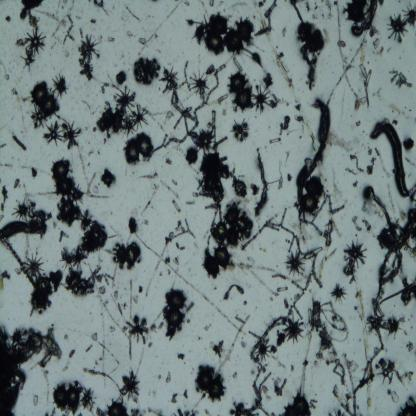Background material: (0, 324, 59, 414), (290, 0, 323, 89), (0, 208, 51, 260), (310, 299, 344, 369), (228, 364, 272, 414), (200, 153, 232, 211), (28, 269, 64, 316), (328, 379, 352, 416), (13, 0, 47, 25), (96, 105, 121, 138), (134, 55, 160, 83), (387, 68, 416, 90), (324, 218, 342, 247), (329, 354, 347, 383), (228, 176, 248, 200), (61, 12, 75, 46), (261, 316, 283, 336), (10, 132, 33, 150), (0, 180, 12, 213), (92, 0, 110, 18), (396, 368, 414, 386), (126, 217, 141, 237), (0, 265, 11, 291), (9, 85, 23, 105), (9, 176, 25, 193), (274, 378, 288, 396), (101, 172, 116, 188), (114, 68, 127, 86), (186, 149, 198, 167), (213, 340, 225, 358), (402, 136, 416, 150), (127, 405, 144, 416), (352, 215, 362, 233), (178, 408, 200, 416), (150, 321, 165, 332), (144, 405, 159, 416), (266, 342, 277, 356), (362, 218, 372, 233), (275, 332, 285, 346), (368, 162, 376, 179), (345, 164, 356, 176), (169, 392, 179, 405), (389, 390, 398, 403), (278, 171, 284, 190), (30, 166, 38, 180), (204, 321, 214, 332), (406, 342, 416, 353), (164, 372, 172, 385), (4, 11, 12, 24), (181, 388, 189, 401), (349, 153, 360, 162), (206, 407, 216, 416), (176, 352, 186, 361), (108, 34, 116, 44), (88, 15, 96, 24), (287, 172, 292, 182), (282, 299, 288, 307), (268, 294, 274, 302), (352, 182, 360, 187), (156, 372, 161, 380), (148, 340, 153, 346), (291, 363, 293, 371)
Cellulose filter fibre: (256, 7, 318, 156), (368, 188, 416, 304), (144, 223, 199, 299), (350, 274, 376, 414), (372, 117, 416, 198), (51, 325, 120, 376), (297, 96, 330, 200), (328, 30, 368, 111), (333, 3, 361, 101), (117, 170, 182, 210), (138, 1, 183, 56), (233, 258, 303, 291), (217, 313, 252, 372), (94, 283, 108, 390), (0, 160, 54, 182), (254, 146, 270, 218), (297, 330, 313, 393), (77, 146, 92, 193), (127, 278, 135, 362), (123, 4, 142, 23), (223, 284, 245, 300)
Diatom: (156, 62, 228, 148), (297, 171, 329, 217), (122, 131, 158, 165), (224, 17, 257, 54), (196, 363, 226, 403), (226, 69, 255, 110), (200, 244, 232, 280), (31, 79, 58, 119), (203, 9, 228, 52), (51, 381, 83, 413), (111, 241, 144, 271), (51, 155, 74, 197), (164, 287, 186, 329), (212, 219, 242, 247), (302, 257, 324, 294), (344, 238, 368, 271), (120, 370, 141, 403), (22, 27, 47, 54), (283, 392, 310, 416), (342, 2, 369, 26), (387, 15, 410, 43), (126, 315, 148, 343), (283, 314, 305, 342), (80, 34, 102, 61), (285, 250, 307, 277), (160, 63, 180, 92), (66, 274, 92, 296), (252, 84, 271, 113), (190, 70, 210, 97), (115, 85, 135, 112), (22, 254, 44, 278), (290, 292, 307, 323), (61, 123, 82, 148), (42, 123, 63, 148), (231, 117, 250, 144), (375, 362, 396, 385), (103, 397, 131, 414), (194, 130, 215, 152), (178, 61, 192, 94), (131, 106, 150, 130), (12, 196, 30, 221), (51, 73, 68, 99), (28, 106, 46, 130), (254, 336, 270, 363), (71, 249, 88, 274), (77, 207, 94, 232), (387, 316, 404, 340), (224, 205, 242, 227), (300, 218, 322, 236), (399, 2, 416, 25), (120, 115, 137, 137), (79, 390, 96, 412), (396, 396, 416, 414), (70, 181, 84, 206), (330, 284, 349, 302), (60, 248, 76, 269), (20, 50, 35, 72), (78, 60, 94, 76), (306, 246, 325, 259), (266, 220, 281, 232), (280, 207, 288, 225), (59, 230, 70, 243), (331, 204, 345, 214), (100, 80, 109, 95), (281, 225, 294, 235), (288, 235, 295, 253), (296, 235, 302, 254), (309, 398, 318, 410), (356, 159, 364, 172)
